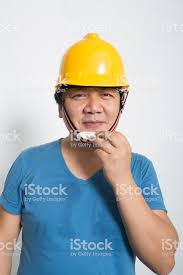Person_wearing_helmet: (50, 30, 140, 104)
